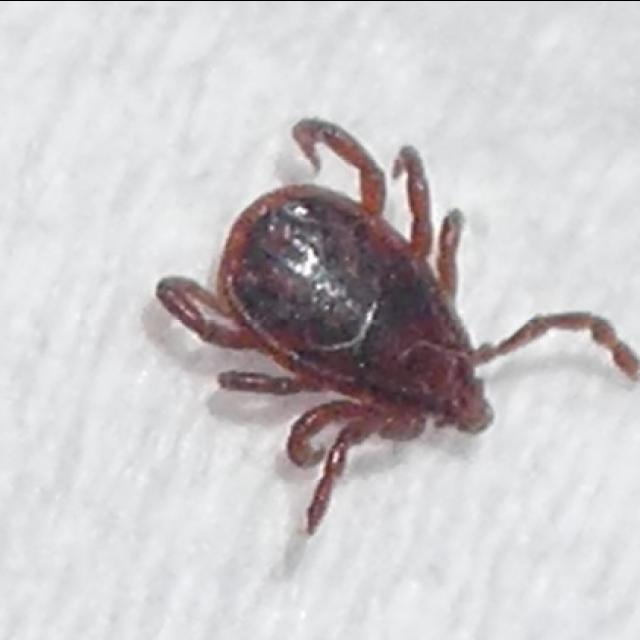Rhipicephalus Sanguineus-M: (153, 117, 640, 538)
